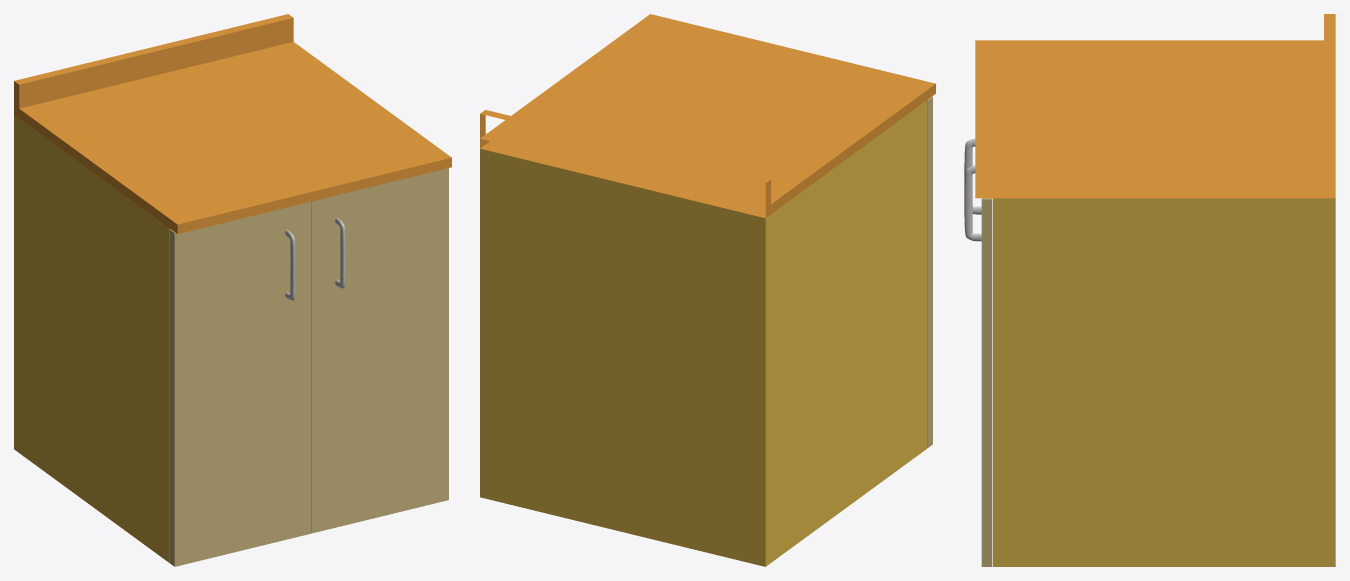
The model's file is SimpleCabinet.glb.
3 views of the same model, side by side, from view 1: azimuth 30°, elevation 25°; view 2: azimuth 150°, elevation 25°; view 3: azimuth 270°, elevation 25° (orthographic). The views are drawn at different scales.
Parts seen in each view (by area): view 1: Countertop1, Cabinet1, Cabinet1_Door_L, Cabinet1_Door_R; view 2: Cabinet1, Countertop1, Cabinet1_Door_L; view 3: Cabinet1, Countertop1, Cabinet1_Door_R, HandleRight.
Part boxes in pixels (x1,y1,x2,y2): Countertop1: (14,14,451,233); Cabinet1: (14,114,170,562); Cabinet1_Door_L: (170,201,311,566); Cabinet1_Door_R: (311,168,448,533); Cabinet1: (480,100,927,566); Countertop1: (480,14,935,218); Cabinet1_Door_L: (927,96,932,447); Cabinet1: (992,198,1335,566); Countertop1: (975,14,1335,198); Cabinet1_Door_R: (981,198,991,566); HandleRight: (964,165,981,241).
Size of the model in its own units: 0.6 by 0.77 by 0.6386.
